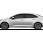car: (5, 12, 43, 29)
